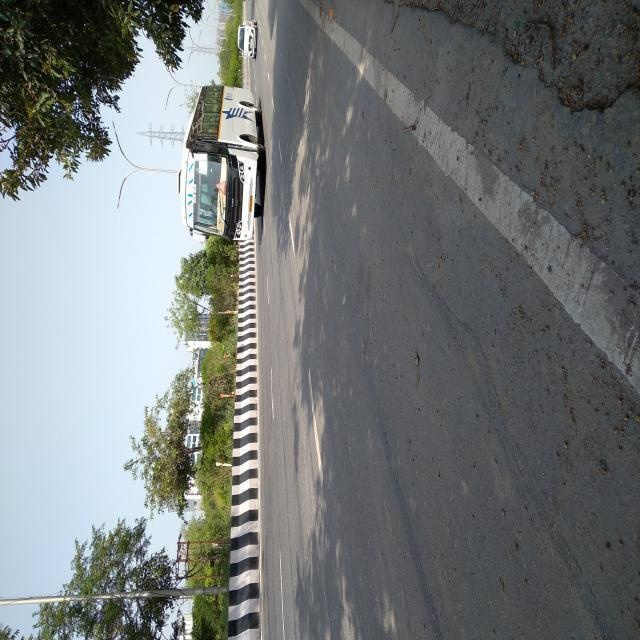Car: (236, 18, 262, 66)
